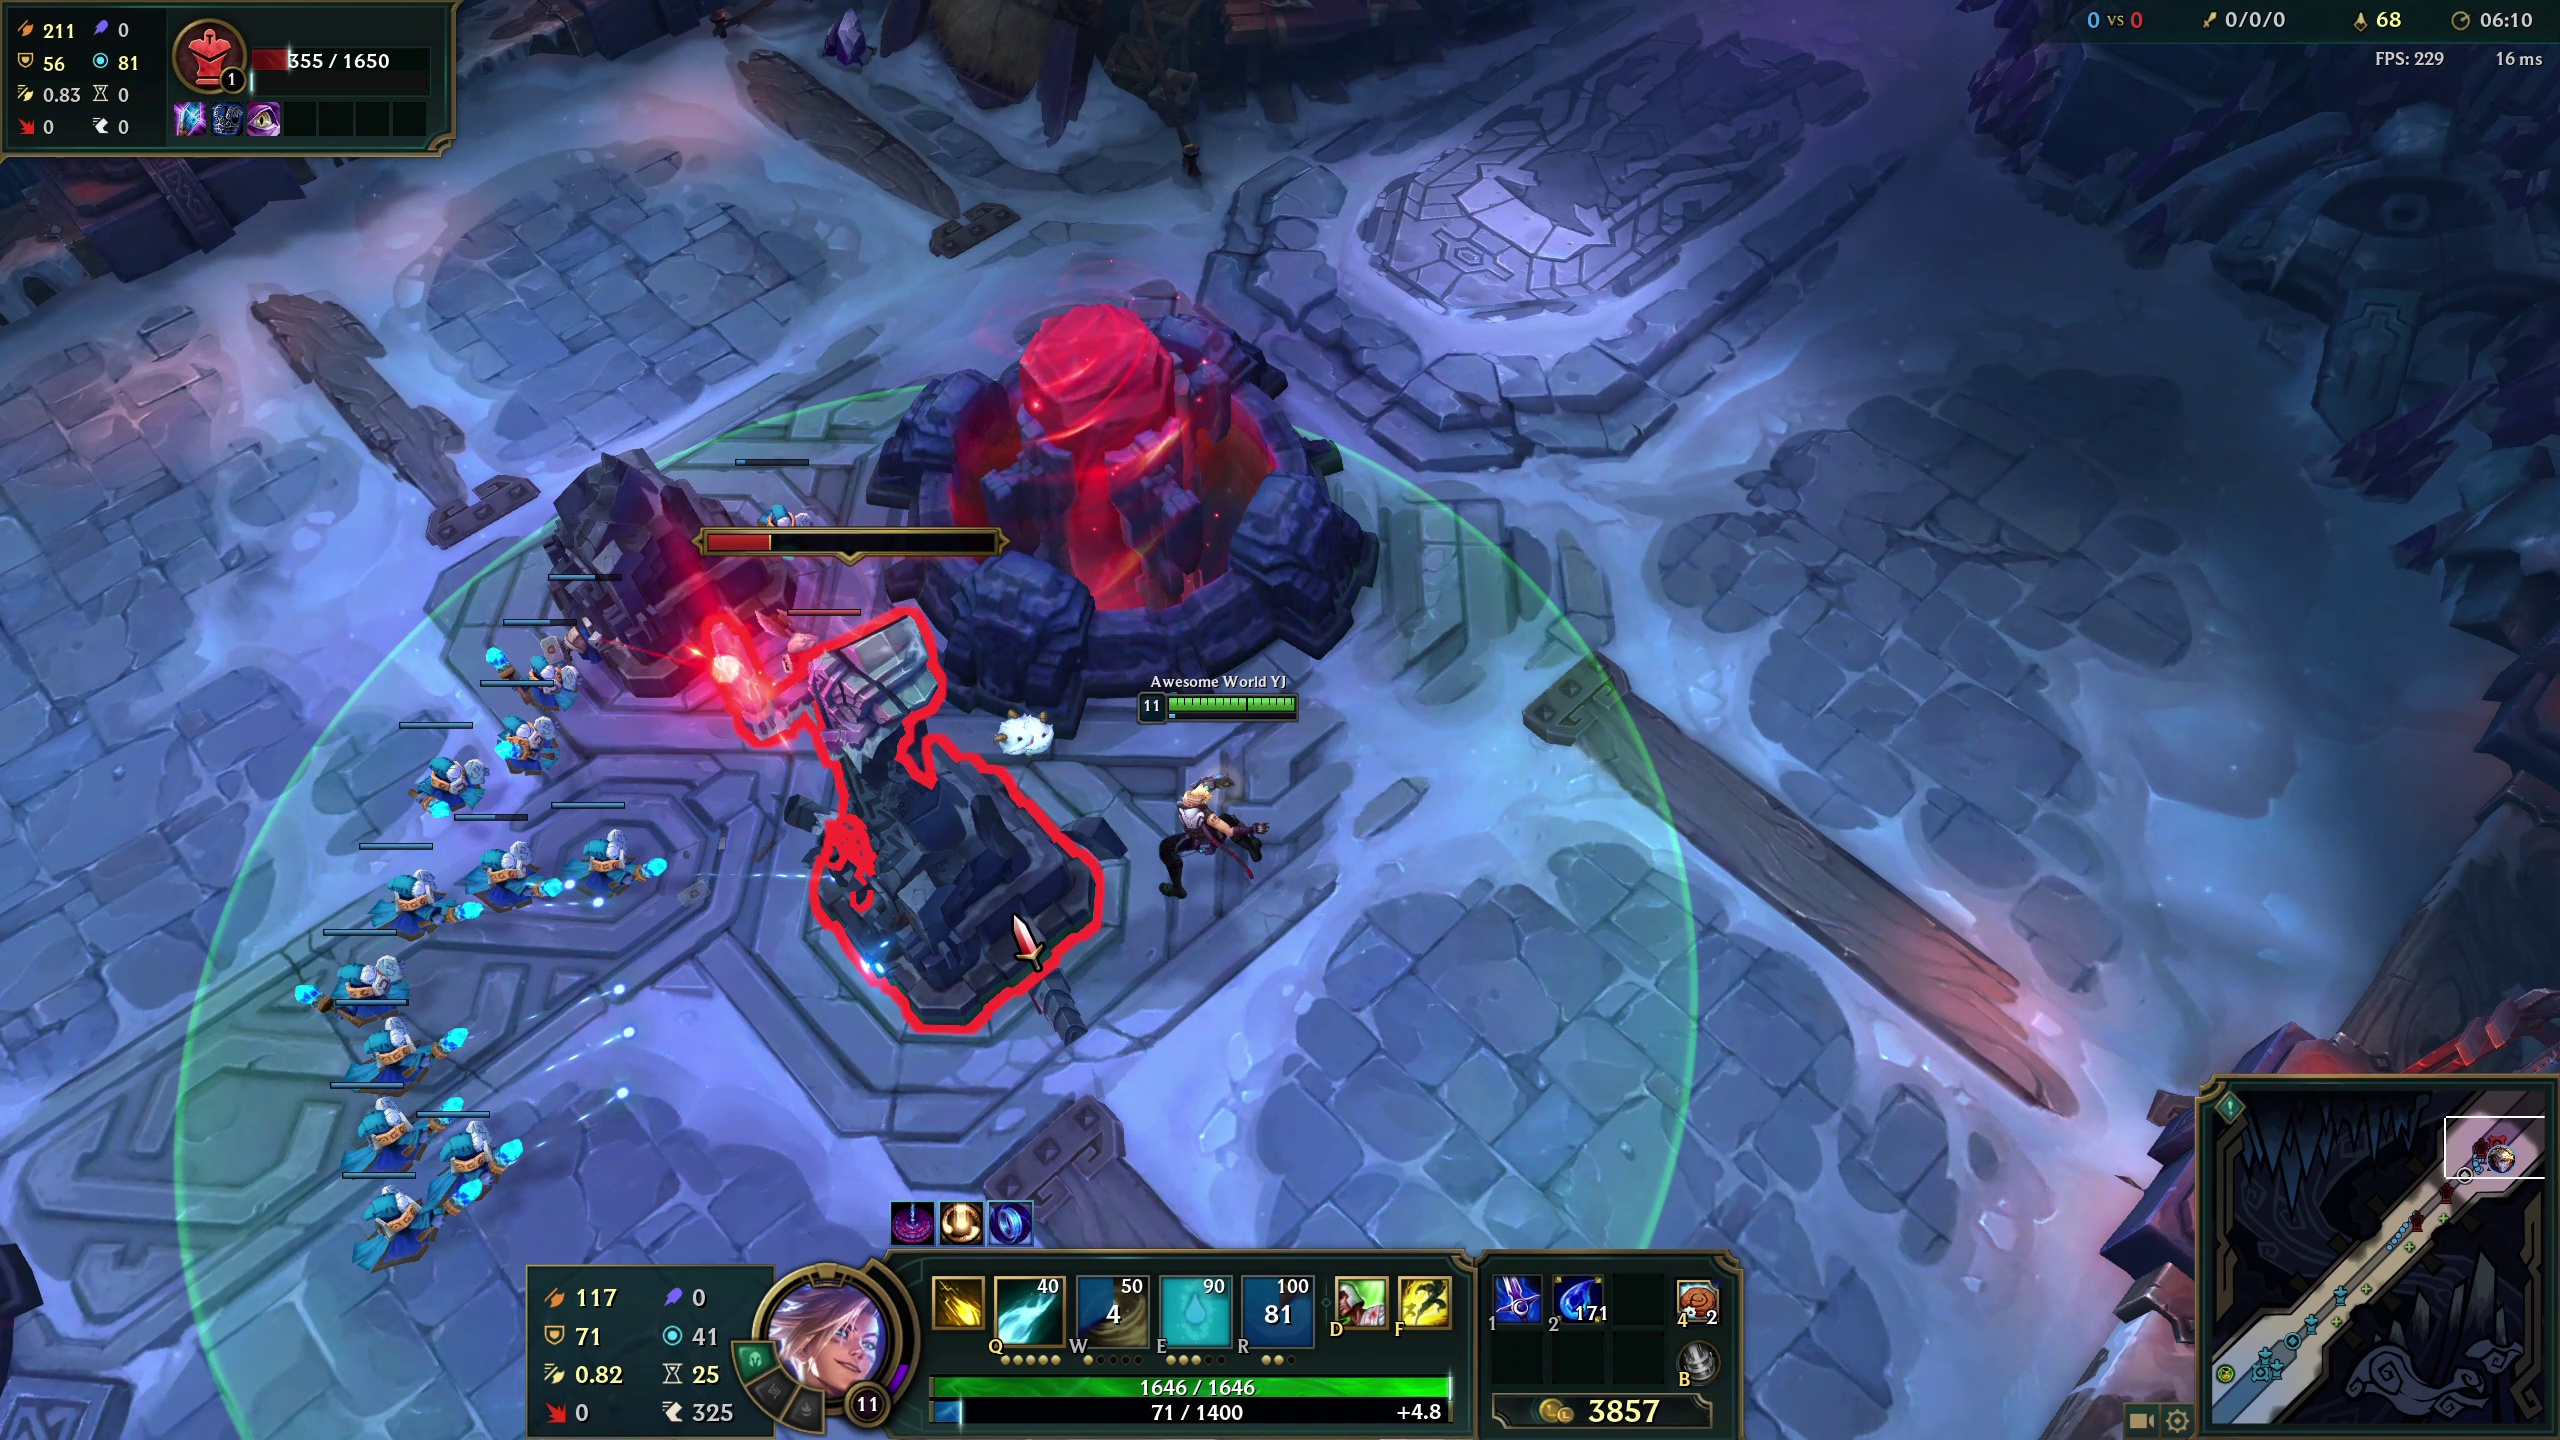EZ: (1139, 679, 1327, 921)
Inhibitor: (946, 355, 1308, 658)
MyMinion: (549, 578, 635, 665), (369, 837, 455, 923), (318, 923, 404, 1009), (420, 1116, 506, 1203), (494, 603, 578, 689), (485, 672, 570, 758), (410, 716, 494, 802), (461, 826, 545, 913), (353, 999, 438, 1085), (325, 1074, 410, 1160), (346, 1167, 431, 1254), (557, 802, 642, 886)
Turret: (744, 679, 1088, 999)
